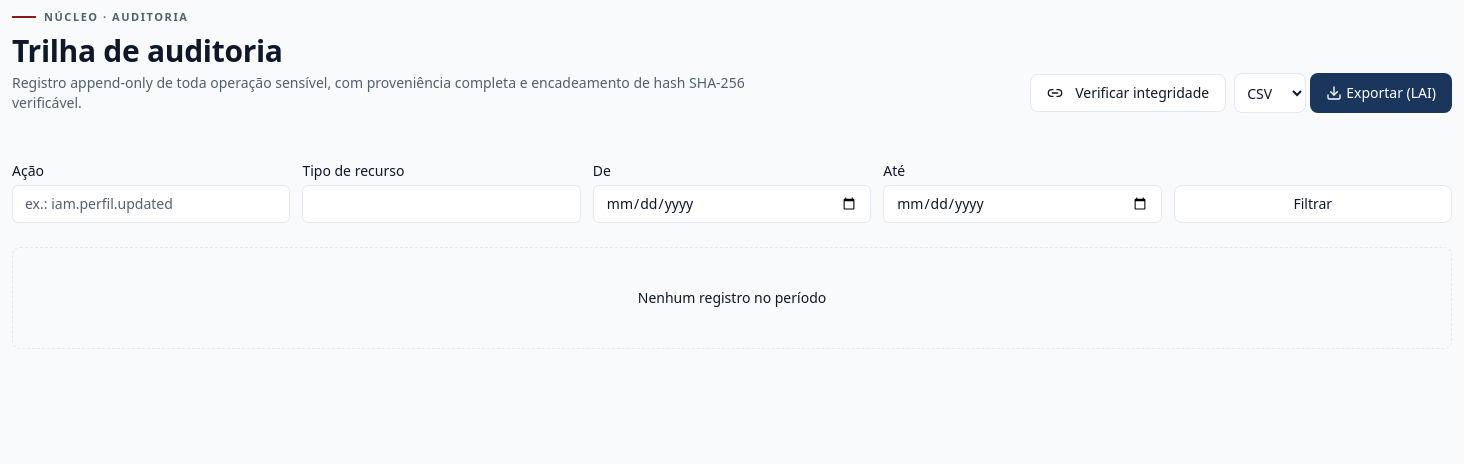
Test: Auditoria › verificação da cadeia: íntegra e violada
This screenshot has width=1464, height=464.
Expected: the text "Nenhum registro no período" is shown, [638,288,826,308]
What coordinates should you click on to do the following:
click the button "Verificar integridade"
I would click on:
 (1128, 93)
Its box is [1030,74,1226,112].
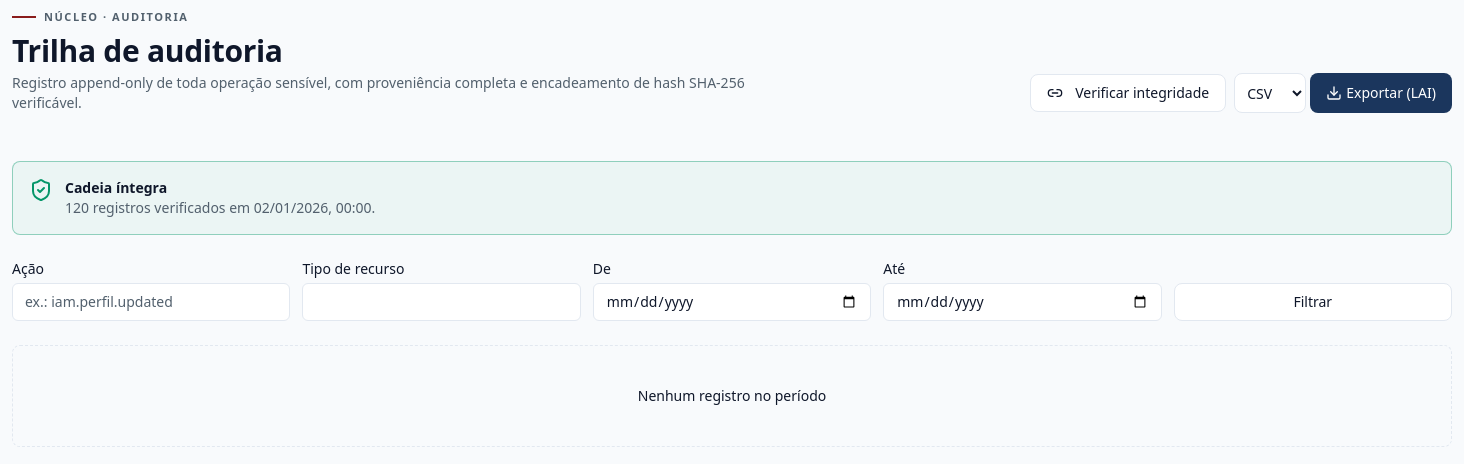
Expected: the text "Cadeia íntegra" is shown, [65,178,167,197]
Expected: the text "120 registros verificados em 02/01/2026, 00:00." is shown, [65,198,375,218]
What coordinates should you click on to do the following:
click the button "Verificar integridade"
I would click on:
 (1128, 93)
Its box is [1030,74,1226,112].
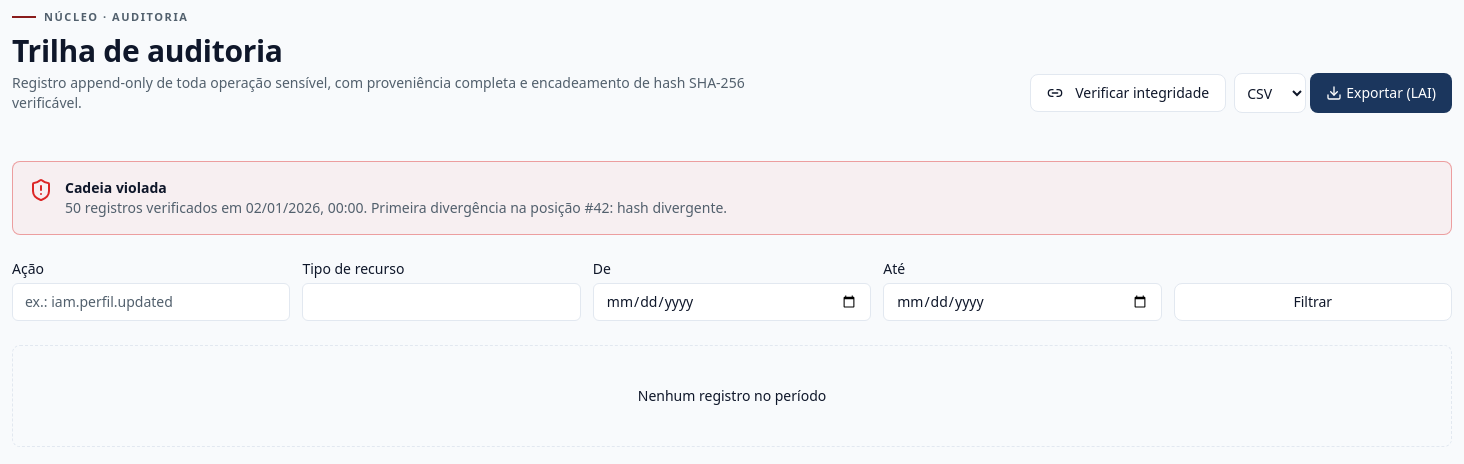
Expected: the text "Cadeia violada" is shown, [65,178,167,197]
Expected: the text "Primeira divergência na posição #42: hash divergente" is shown, [367,198,727,217]
